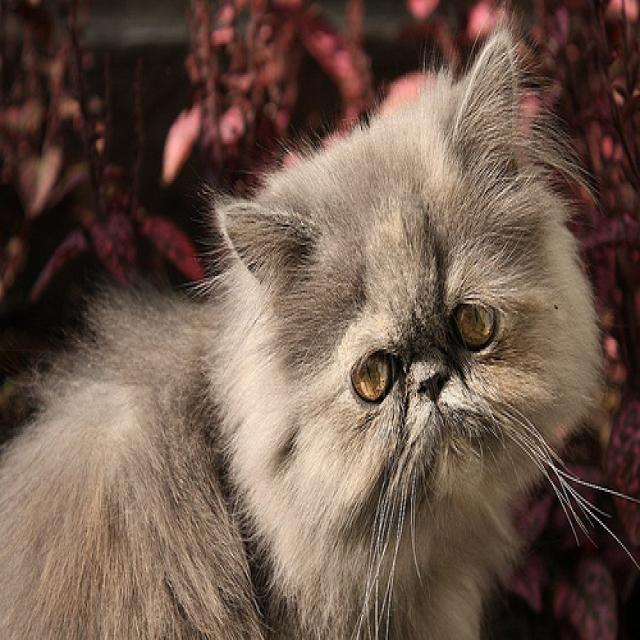Persian: (213, 30, 601, 525)
